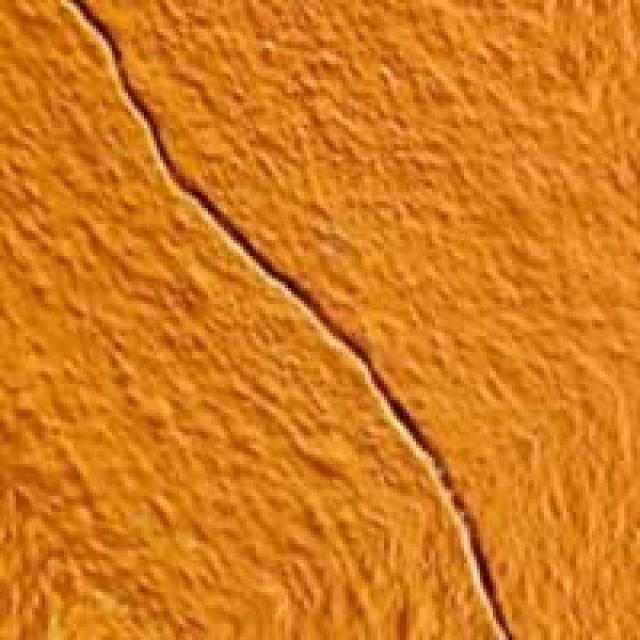crack: (51, 0, 547, 637)
